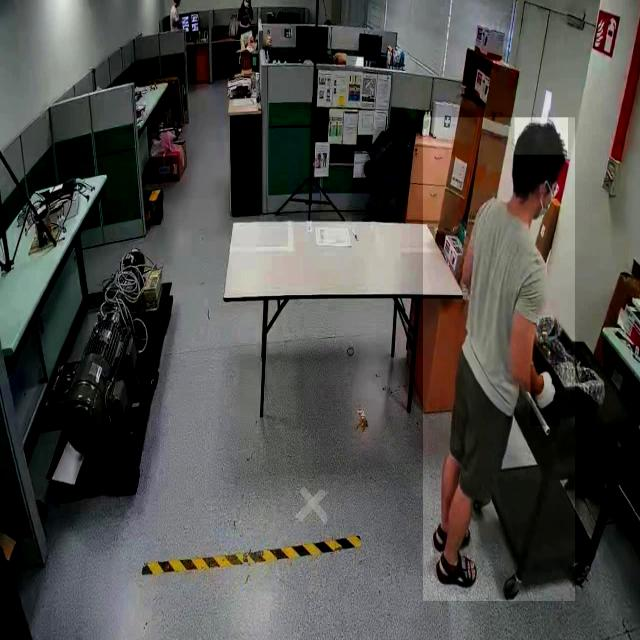hand_glove: (530, 364, 560, 426)
head_nohelmet: (514, 118, 568, 156)
person: (423, 117, 575, 602)
